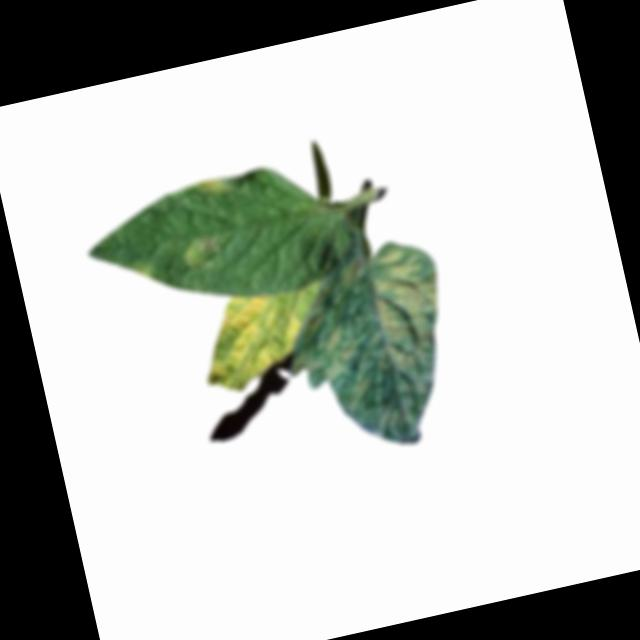Leaf_Mold: (189, 283, 315, 398), (364, 238, 462, 377), (282, 306, 397, 421), (179, 229, 231, 269), (337, 255, 370, 292), (127, 254, 158, 285), (198, 174, 236, 199)
